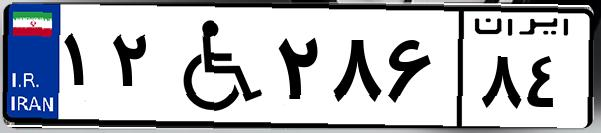1: (57, 26, 110, 100)
2: (270, 28, 330, 110), (110, 28, 158, 98)
4: (525, 38, 570, 115)
6: (385, 28, 445, 110)
8: (330, 28, 385, 110), (475, 38, 525, 113)
ژ (معلولین و جانبازان): (158, 12, 270, 120)
